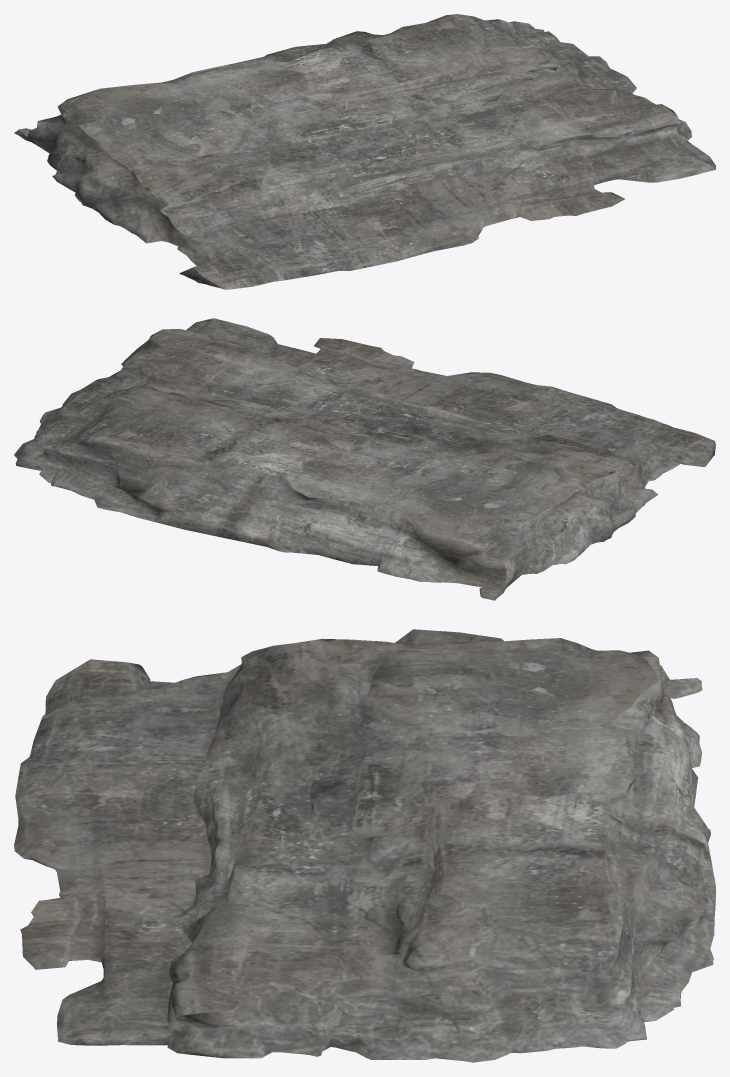
Rendered from pedra1.glb.
3 renders of one model, top to bottom at view 1: azimuth 30°, elevation 25°; view 2: azimuth 150°, elevation 25°; view 3: azimuth 270°, elevation 25°, orthographic. The views are drawn at different scales.
Visible parts, largest first — view 1: models\props\rock_floor_model_1.vmdl_c.rock_floor_model_1; view 2: models\props\rock_floor_model_1.vmdl_c.rock_floor_model_1; view 3: models\props\rock_floor_model_1.vmdl_c.rock_floor_model_1.
Part boxes in pixels (<box>): models\props\rock_floor_model_1.vmdl_c.rock_floor_model_1: <box>14,14,715,289</box>; models\props\rock_floor_model_1.vmdl_c.rock_floor_model_1: <box>14,318,715,600</box>; models\props\rock_floor_model_1.vmdl_c.rock_floor_model_1: <box>14,629,715,1062</box>.
Bounding box in the file's own units: 6.11 × 0.4216 × 4.52.
Materials: 1 (1 with a texture image).
